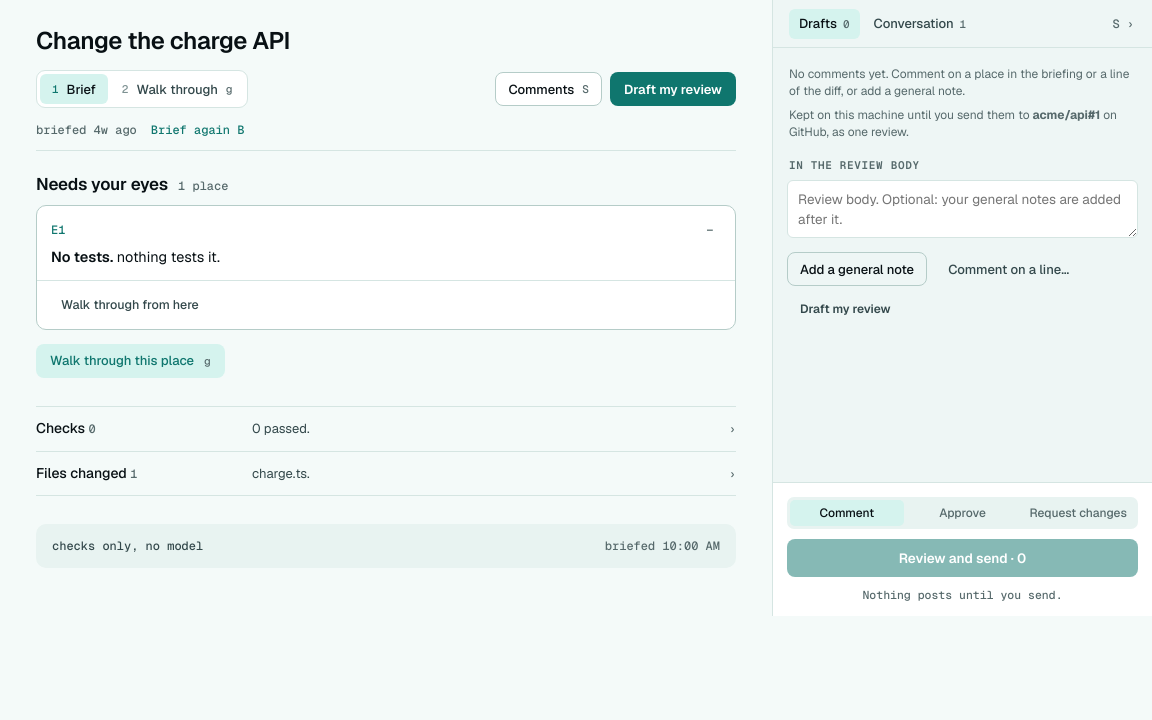
Test: Draft my review › drafts from the toolbar, shows the drafts in the drawer, and says what it made, skipped and cost
The width and height of the screenshot is (1152, 720).
Expected: the text "No comments yet" is shown, [789, 66, 1129, 99]
Click the 1st button "Draft my review" at (673, 89), box [610, 72, 736, 106]
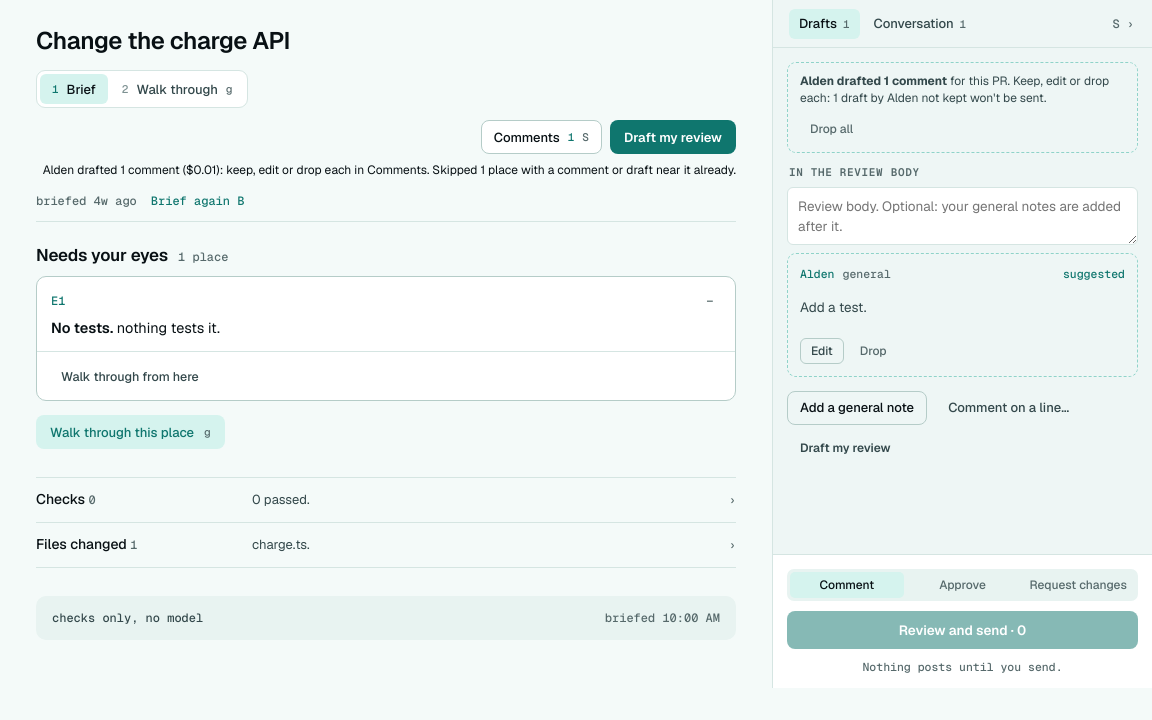
Expected: the 1st message shows "Alden drafted 1 comment ($0.01): keep, edit or drop each in Comments. Skipped 1 place with a comment or draft near it already.", [43, 162, 736, 178]
Expected: the text "Add a test." is shown, [800, 298, 866, 316]
Expected: the text with class "dcard-who" reads "Alden", [800, 266, 834, 281]
